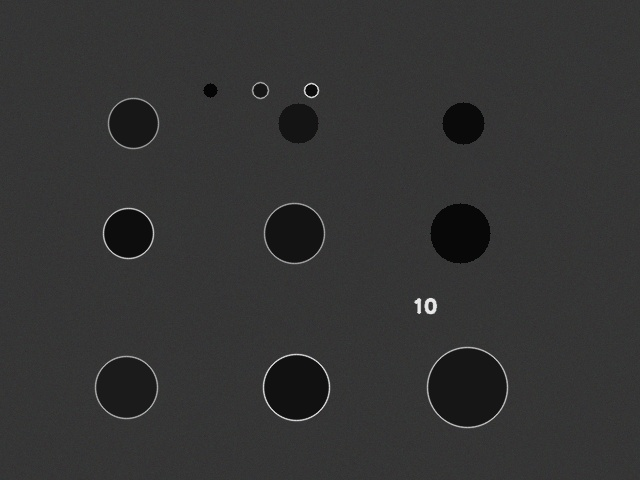hole: (427, 347, 507, 427), (263, 354, 329, 420), (95, 356, 157, 418), (264, 203, 324, 263), (430, 203, 490, 263), (108, 98, 158, 148), (103, 208, 153, 258), (442, 102, 484, 144), (278, 103, 318, 143), (252, 82, 268, 98), (203, 83, 217, 97), (304, 83, 318, 97)
